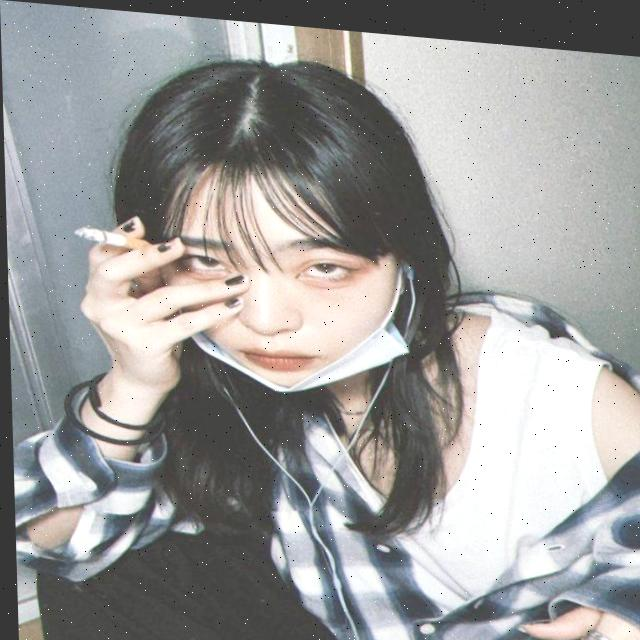cigarette: (71, 222, 152, 251)
